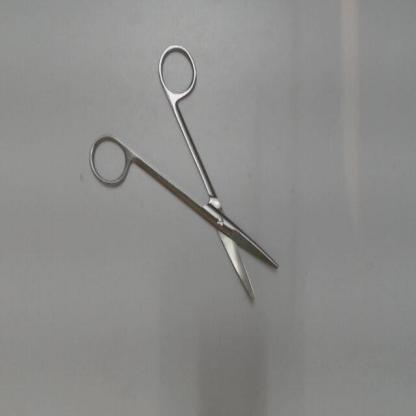Curved Mayo Scissors: (84, 39, 283, 313)
